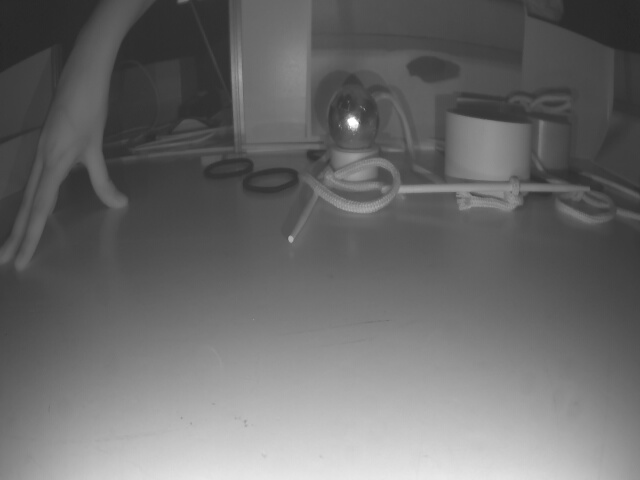Live: (331, 84, 379, 147)
Point: (0, 126, 46, 206)
